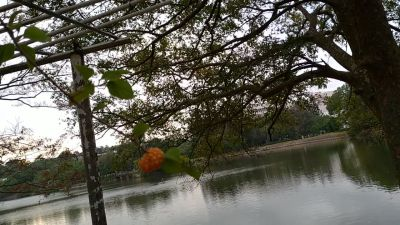eggs: (138, 146, 166, 173)
